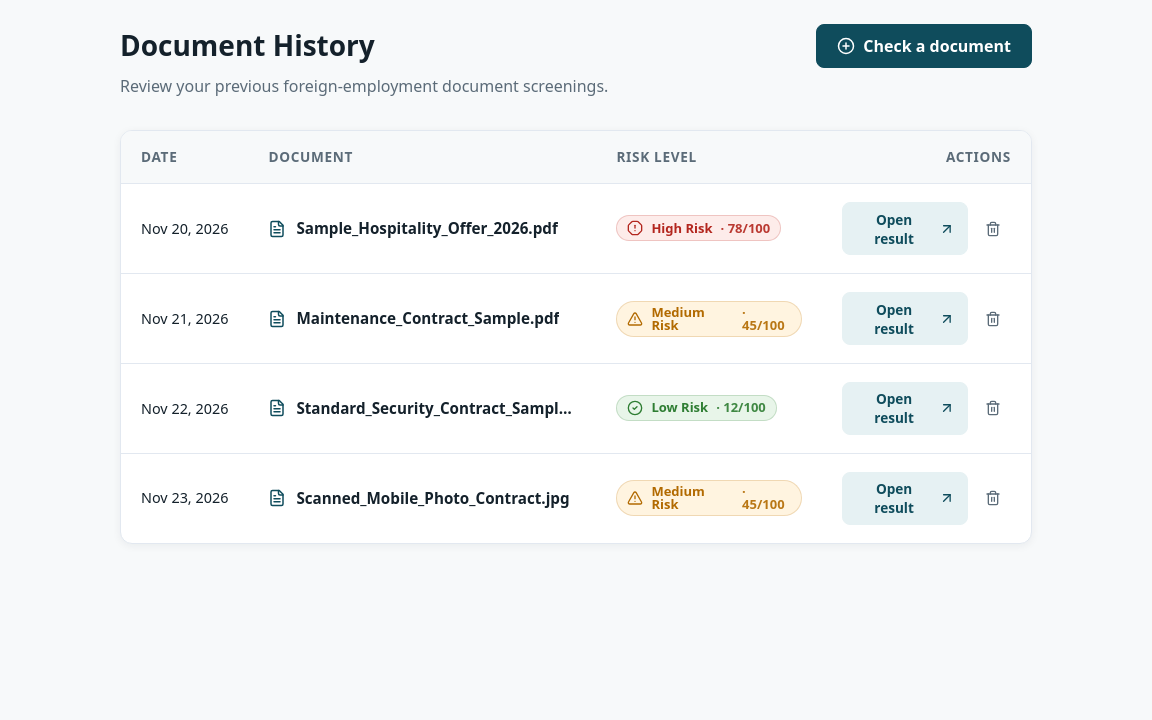
Test: HistoryPage › opens delete confirmation modal when clicking delete button
Expected: the table is shown, x1=121 y1=131 x2=1031 y2=542
Click the button named "Delete".
click(993, 229)  # box x1=976 y1=211 x2=1011 y2=247
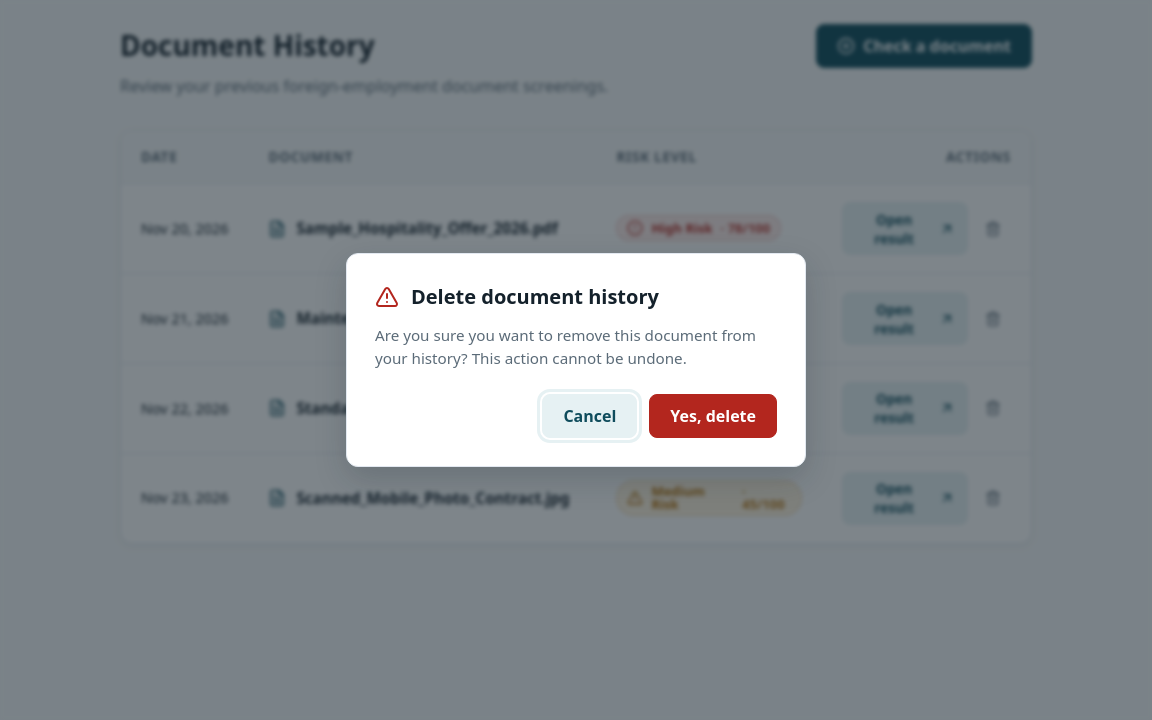
Expected: the dialog is shown, x1=346 y1=253 x2=806 y2=467
Expected: the heading "Delete document history" is shown, x1=411 y1=282 x2=659 y2=312
# Cancel closes dialog
Click the button "Cancel".
click(590, 416)  # box x1=542 y1=394 x2=637 y2=438
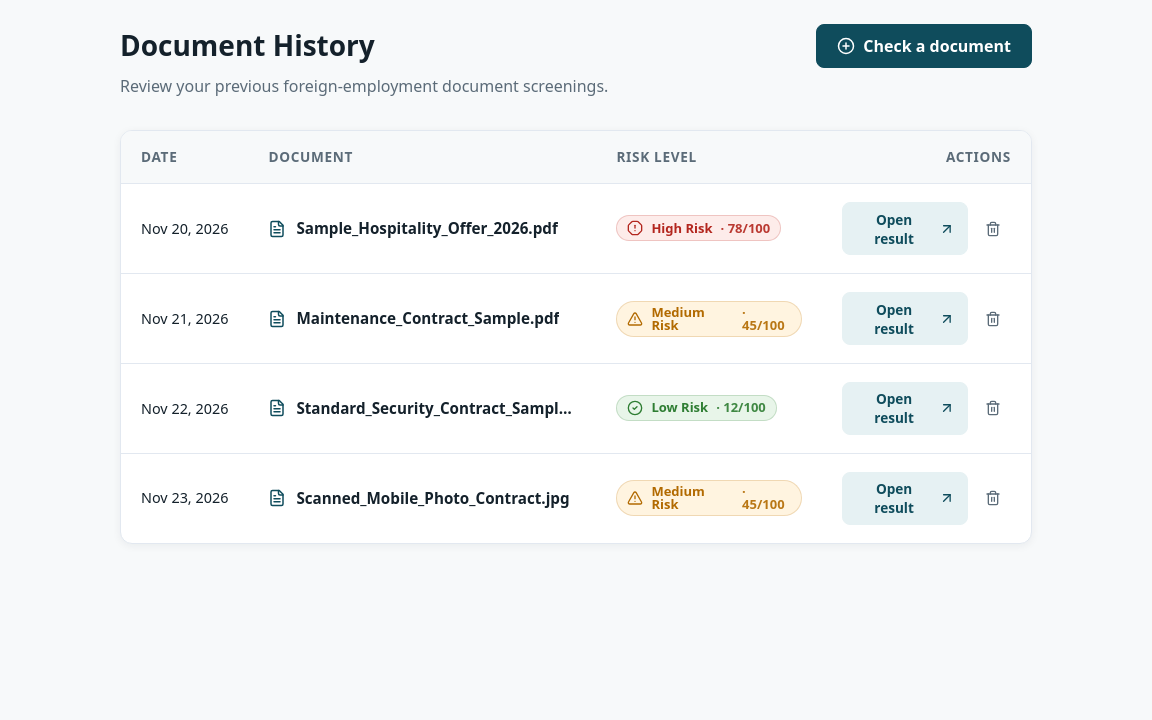
Expected: the dialog is gone
